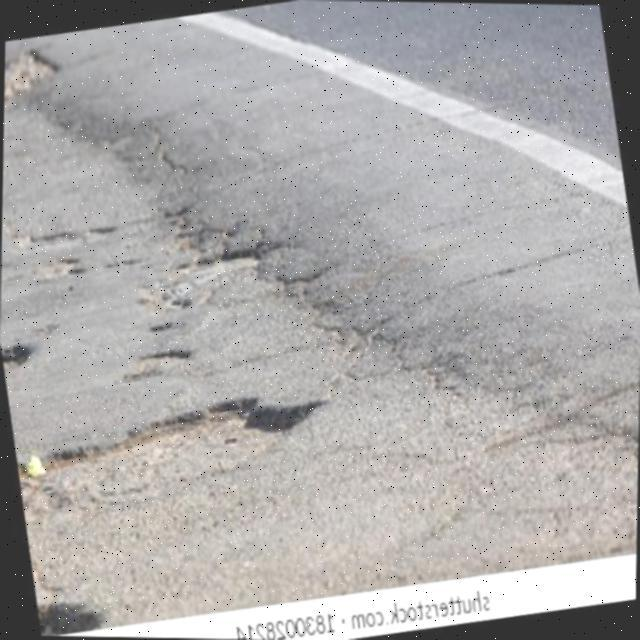Pothole: (23, 398, 328, 476)
